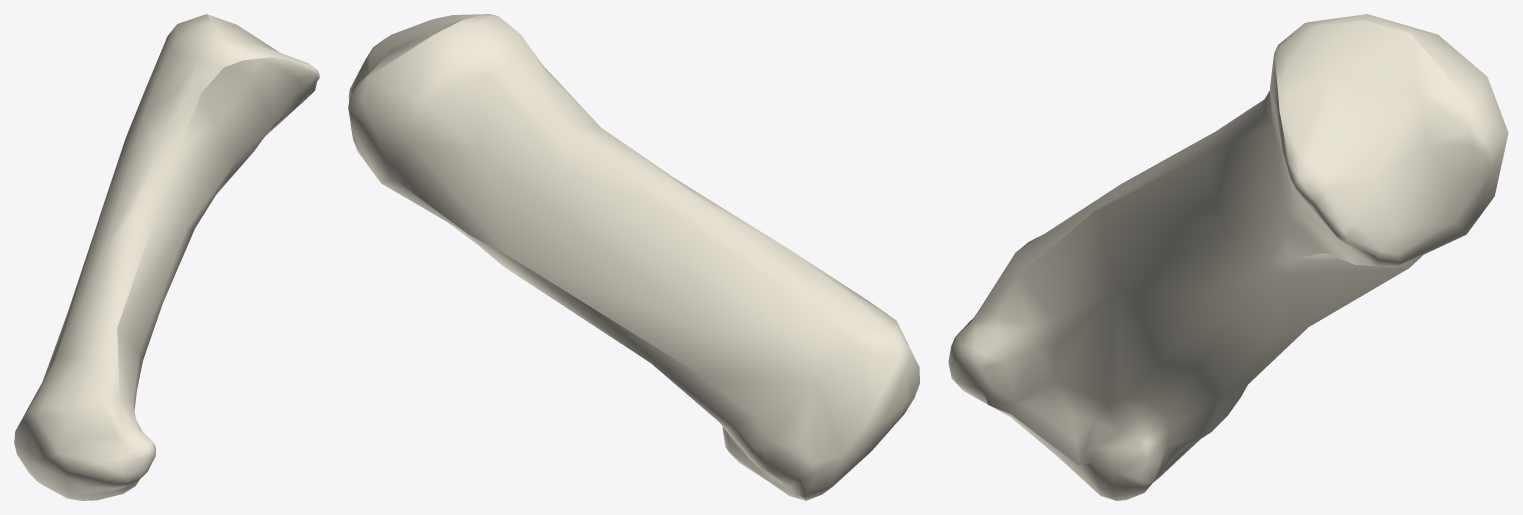
File: fma24464_fj6444.glb
3 views of the same model, side by side, from view 1: azimuth 30°, elevation 25°; view 2: azimuth 150°, elevation 25°; view 3: azimuth 270°, elevation 25° (orthographic). The views are drawn at different scales.
Visible parts, largest first — view 1: FMA24464_FJ6444; view 2: FMA24464_FJ6444; view 3: FMA24464_FJ6444.
Boxes of the visible parts, x1=… form: FMA24464_FJ6444: x1=14, y1=14, x2=319, y2=500; FMA24464_FJ6444: x1=348, y1=14, x2=919, y2=500; FMA24464_FJ6444: x1=948, y1=14, x2=1508, y2=500.
Size of the model in its own units: 0.0373 by 0.037 by 0.0302.
